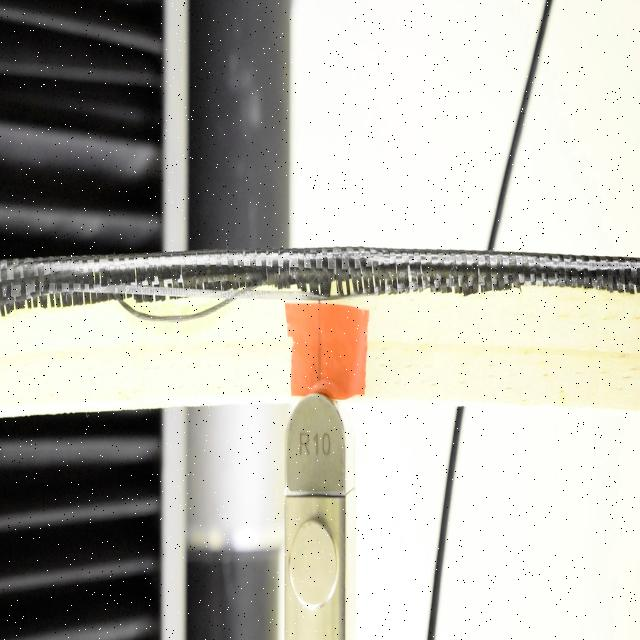wood: (0, 250, 640, 415)
